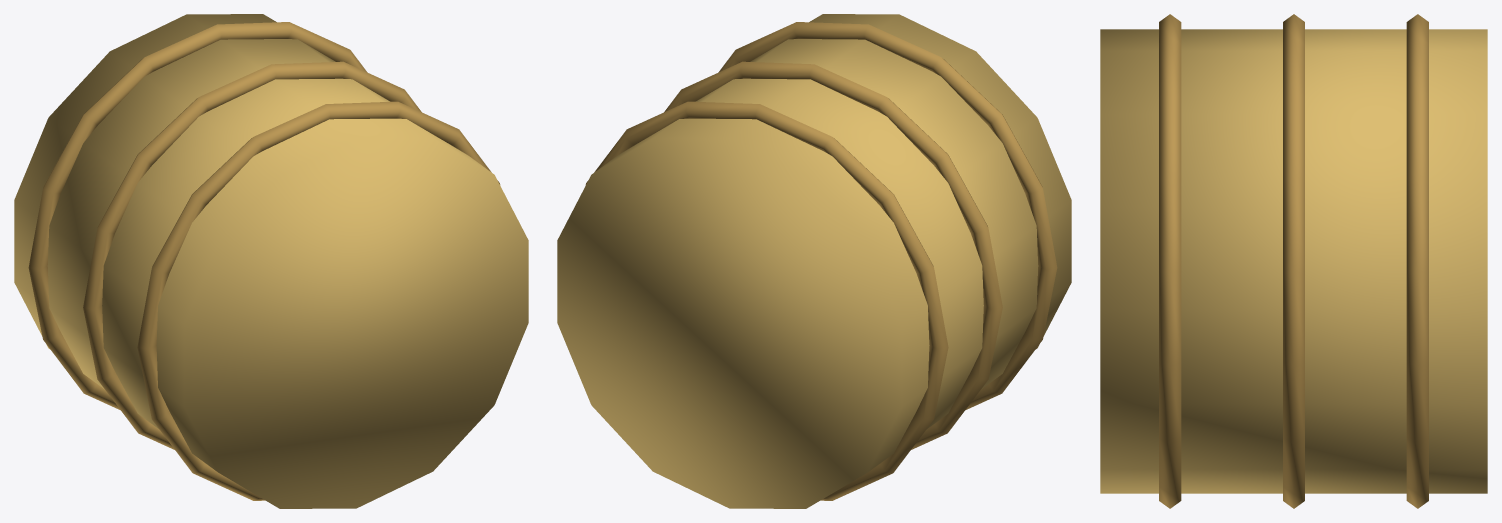
File: xy_town_haystack.glb
3 renders of one model, left to right at view 1: azimuth 30°, elevation 25°; view 2: azimuth 150°, elevation 25°; view 3: azimuth 270°, elevation 25°, orthographic. The views are drawn at different scales.
Visible parts, largest first — view 1: xy_town_haystack; view 2: xy_town_haystack; view 3: xy_town_haystack.
Part boxes in pixels (x1,y1,x2,y2): xy_town_haystack: (14,14,528,508); xy_town_haystack: (557,14,1071,508); xy_town_haystack: (1100,14,1487,508).
Size of the model in its own units: 1.28 by 1.28 by 1.
